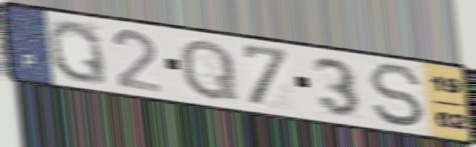2: (109, 27, 167, 95)
3: (311, 56, 364, 119)
7: (241, 42, 293, 109)
Q: (46, 18, 111, 87), (178, 37, 241, 102)
S: (366, 60, 427, 129)
